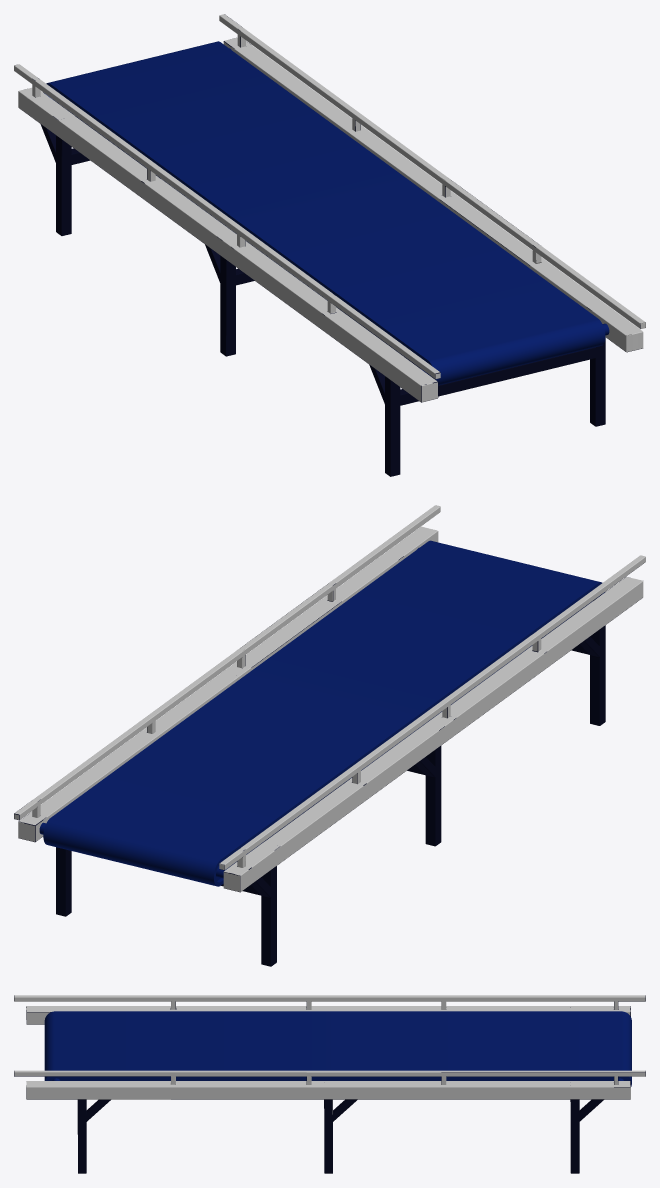
The model's file is cinta.obj.
3 views of the same model, one above another, from view 1: azimuth 30°, elevation 25°; view 2: azimuth 150°, elevation 25°; view 3: azimuth 270°, elevation 25° (orthographic). The views are drawn at different scales.
Visible parts, largest first — view 1: Cylinder, Cube.002; view 2: Cylinder, Cube.002; view 3: Cylinder, Cube.002.
Boxes of the visible parts, left/top/right/bottom form: Cylinder: left=43, top=41, right=609, bottom=385; Cube.002: left=14, top=14, right=645, bottom=476; Cylinder: left=39, top=540, right=604, bottom=886; Cube.002: left=14, top=505, right=645, bottom=966; Cylinder: left=44, top=1011, right=631, bottom=1086; Cube.002: left=14, top=995, right=645, bottom=1173.
Bounding box in the file's own units: 1.31 × 0.7512 × 4.28.
